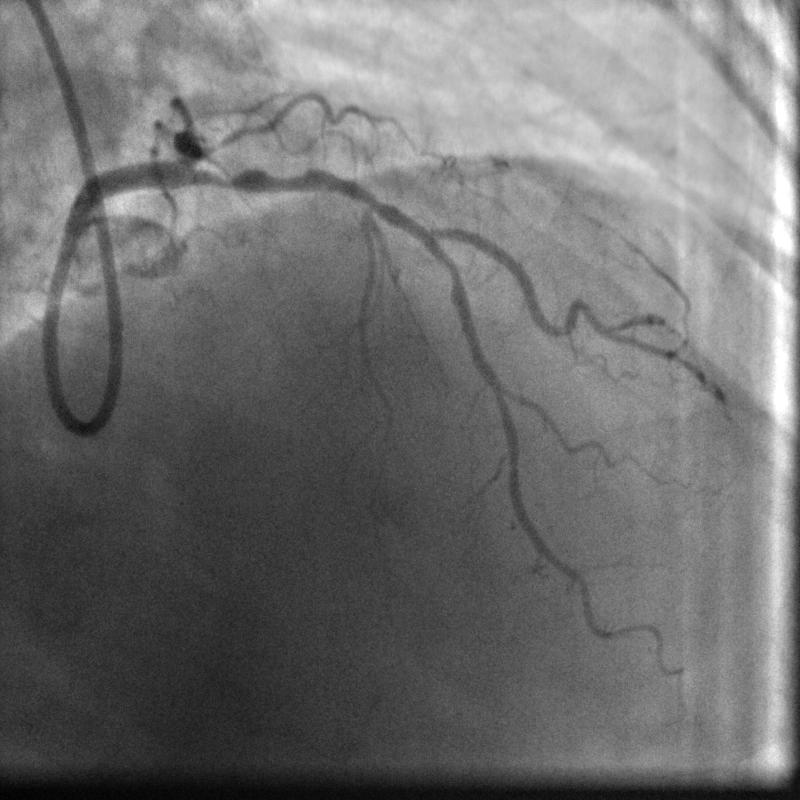Stenosis: (205, 156, 319, 189)
